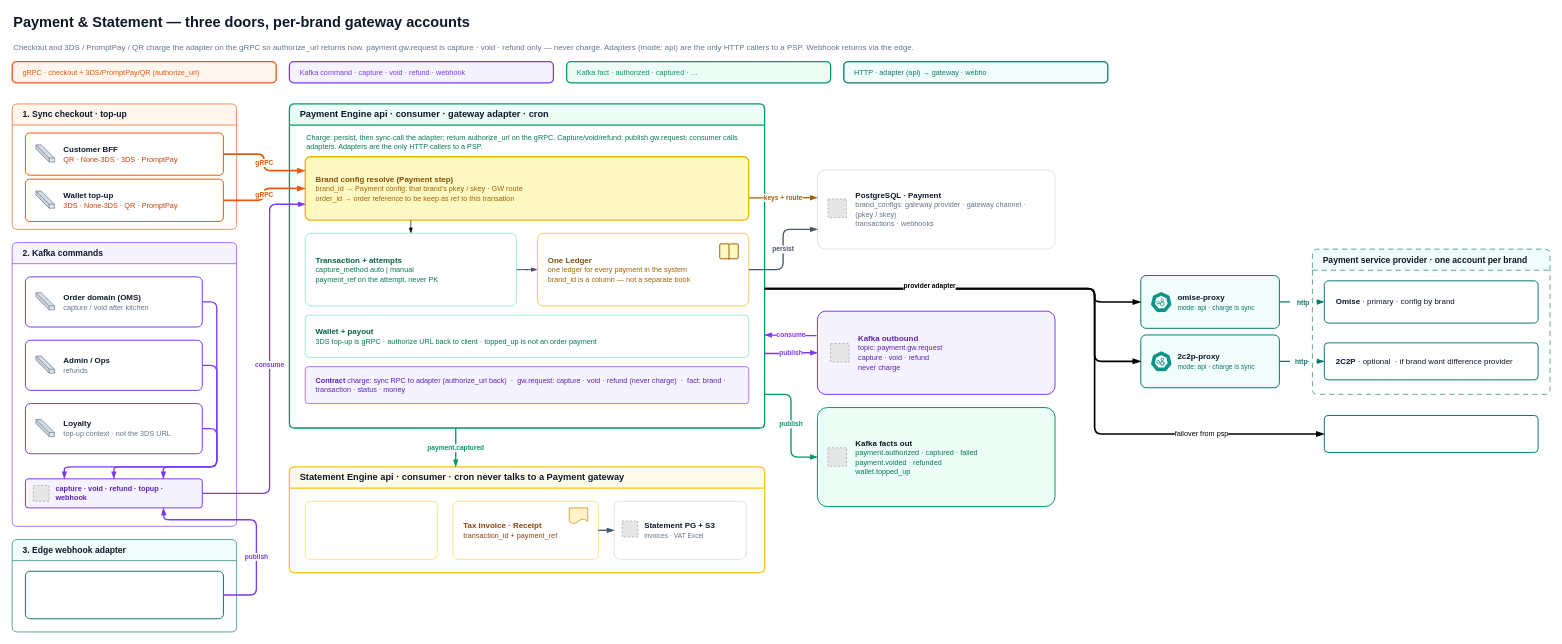
Image size: 1562x644. Some labels were removed from this diagram. Grey dashed boxes stand in for pictures. Here are the shapes that lost their labels. From the top down, the centre of each, then its label:
the point at 1430,434: Bank · failover · when psp down
the point at 371,530: Trigger payment.captured or CMS HTTP
the point at 124,594: Webhook adapter Bun / Elysia · HTTP in · publish Kafka command
